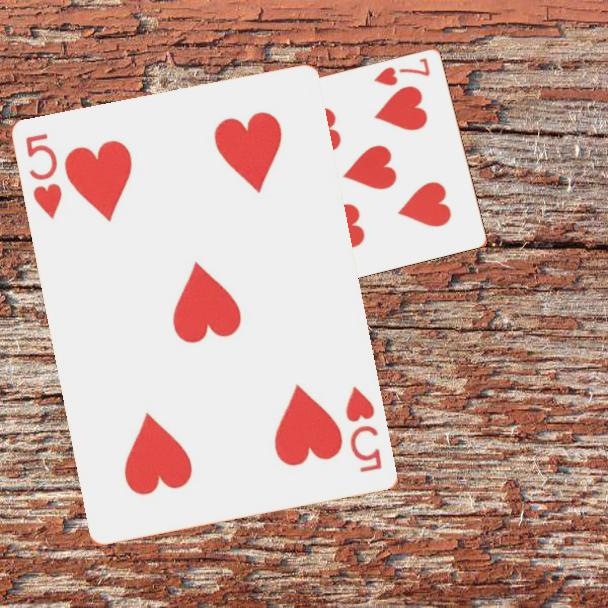h05: (22, 130, 66, 222), (342, 383, 385, 476)
h07: (370, 54, 433, 88)
